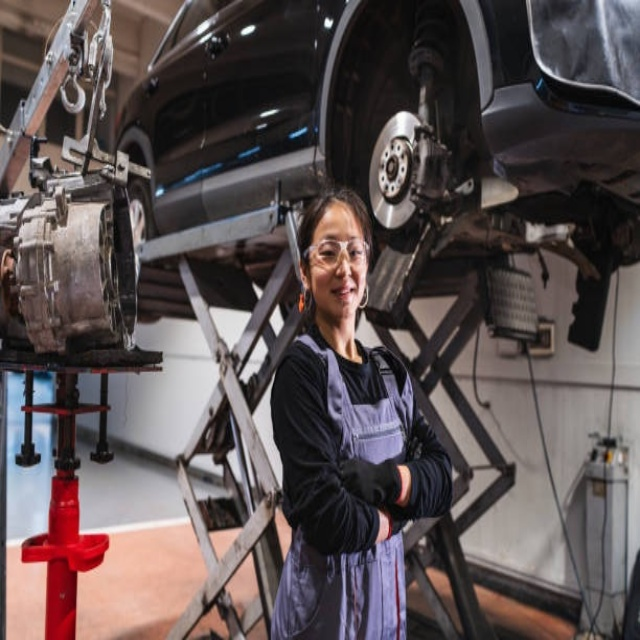Gafas: (303, 237, 371, 268)
Guantes: (339, 455, 403, 509)
Sin_mascara: (329, 279, 358, 311)
